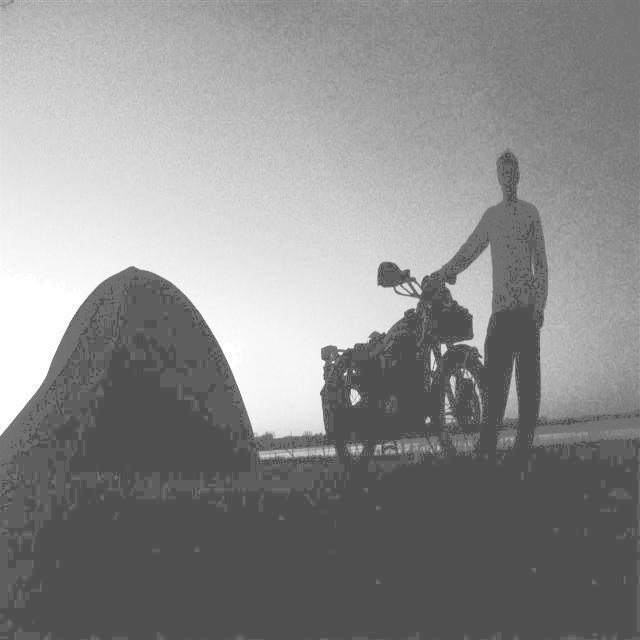Motorcycle: (310, 260, 490, 491)
